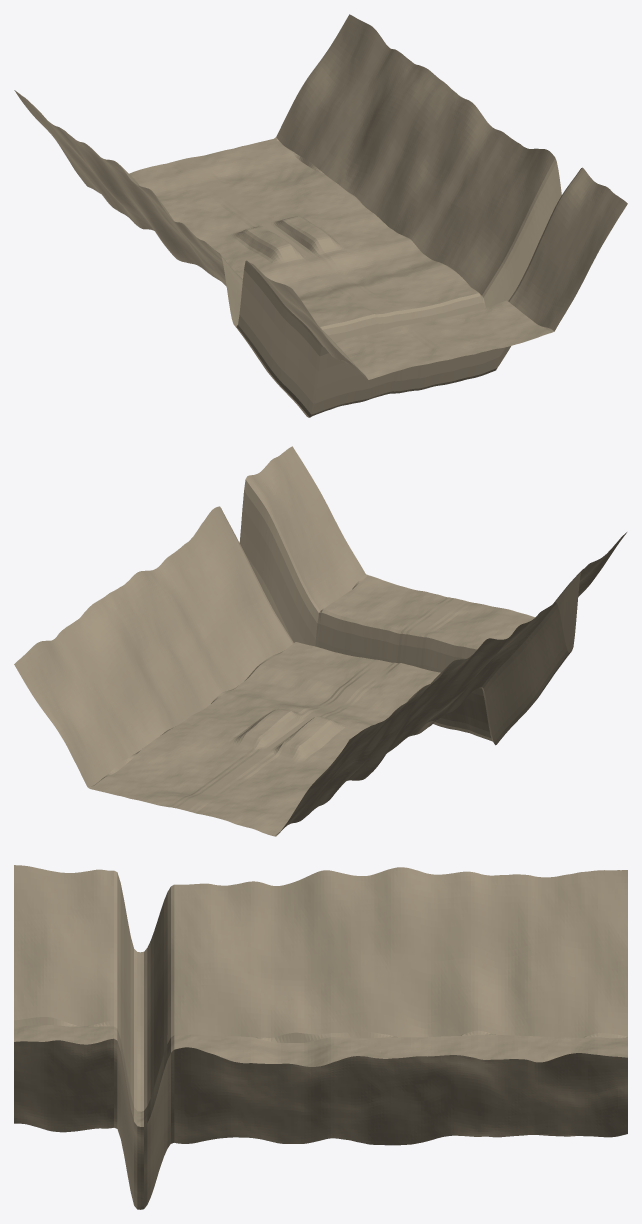
Rendered from SM_CanyonTerrain.fbx.
3 renders of one model, top to bottom at view 1: azimuth 30°, elevation 25°; view 2: azimuth 150°, elevation 25°; view 3: azimuth 270°, elevation 25°, orthographic. The views are drawn at different scales.
Visible parts, largest first — view 1: SM_CanyonTerrain; view 2: SM_CanyonTerrain; view 3: SM_CanyonTerrain.
Boxes of the visible parts, x1,y1,x2,y2 form: SM_CanyonTerrain: (14,14,627,417); SM_CanyonTerrain: (14,446,626,836); SM_CanyonTerrain: (14,865,627,1209).
Bounding box in the file's own units: 160 × 88.94 × 230.
